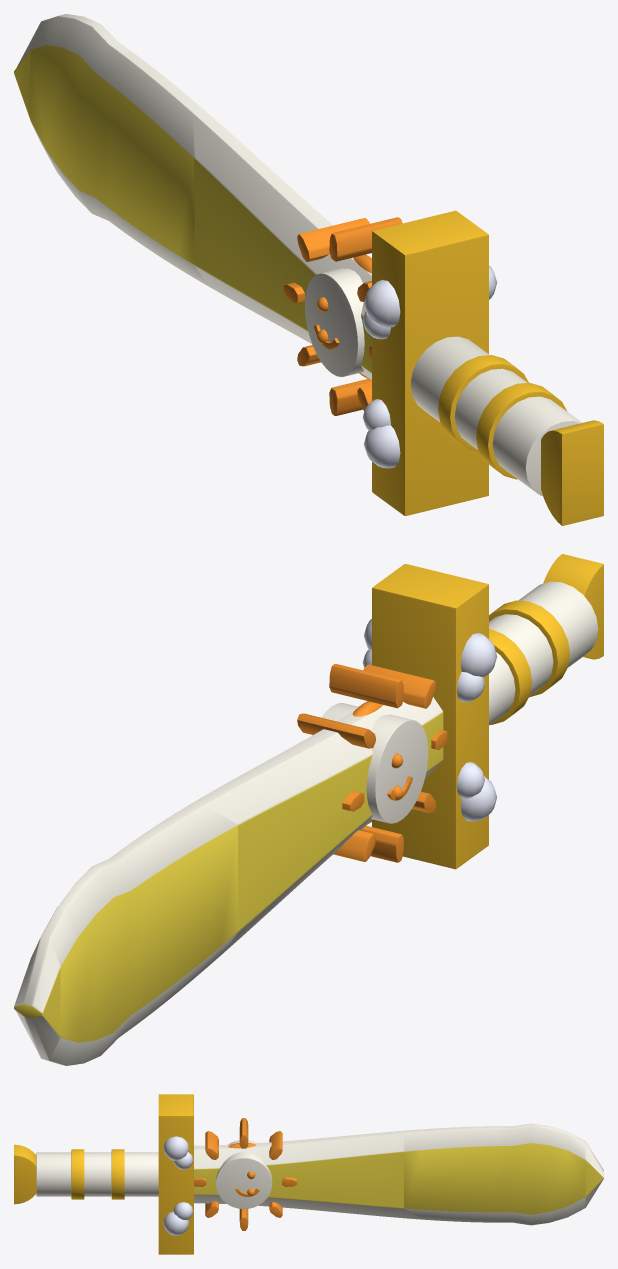
The model's file is Sword_LittleDawn.glb.
The picture shows the model from 3 angles, top to bottom: view 1: azimuth 30°, elevation 25°; view 2: azimuth 150°, elevation 25°; view 3: azimuth 270°, elevation 25°; orthographic projection. The views are drawn at different scales.
Parts seen in each view (by area): view 1: Sword_LittleDawn; view 2: Sword_LittleDawn; view 3: Sword_LittleDawn.
Boxes of the visible parts, x1=… form: Sword_LittleDawn: x1=14, y1=14, x2=603, y2=525; Sword_LittleDawn: x1=14, y1=554, x2=603, y2=1065; Sword_LittleDawn: x1=14, y1=1094, x2=603, y2=1254.
Bounding box in the file's own units: 0.132 × 0.26 × 1.
1 material, 1 textured.
